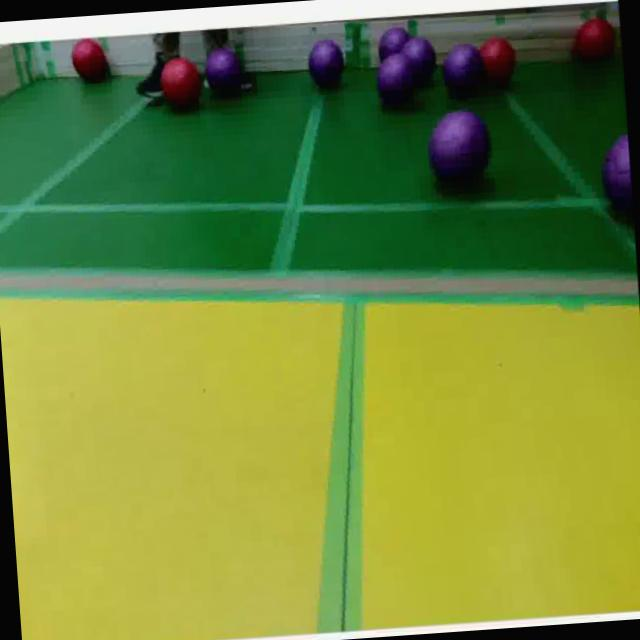purple_ball: (426, 108, 498, 194), (599, 136, 634, 230), (373, 55, 423, 114), (440, 40, 488, 101), (304, 40, 348, 94), (206, 49, 247, 101), (400, 36, 440, 86), (377, 28, 412, 58)
red_ball: (158, 54, 206, 116), (572, 18, 618, 74), (481, 34, 518, 96), (71, 38, 108, 87)
